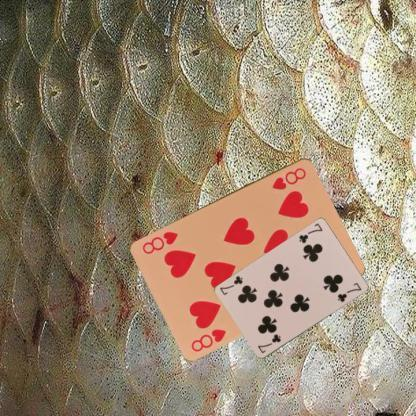7c: (296, 221, 324, 245), (255, 332, 282, 354)
8h: (188, 325, 228, 353), (270, 164, 308, 191)
